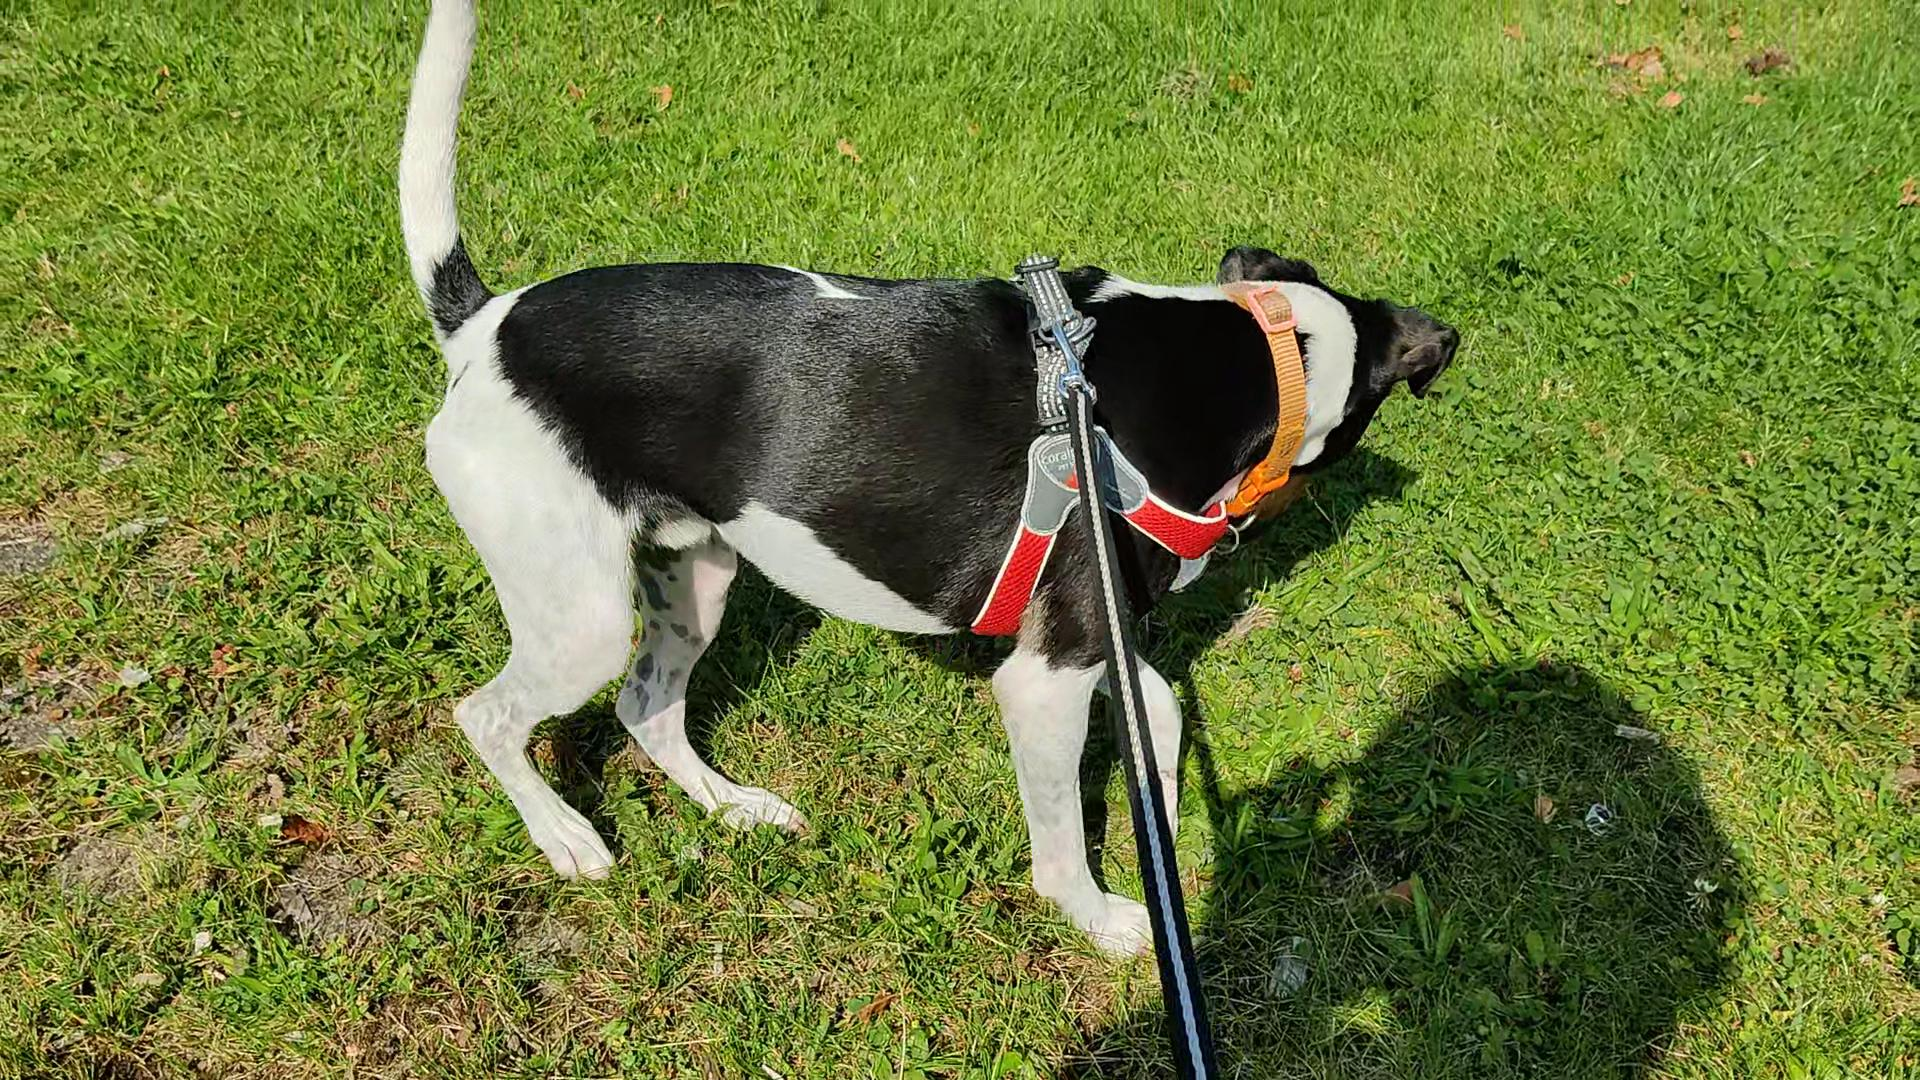Dog: (349, 0, 1480, 978)
